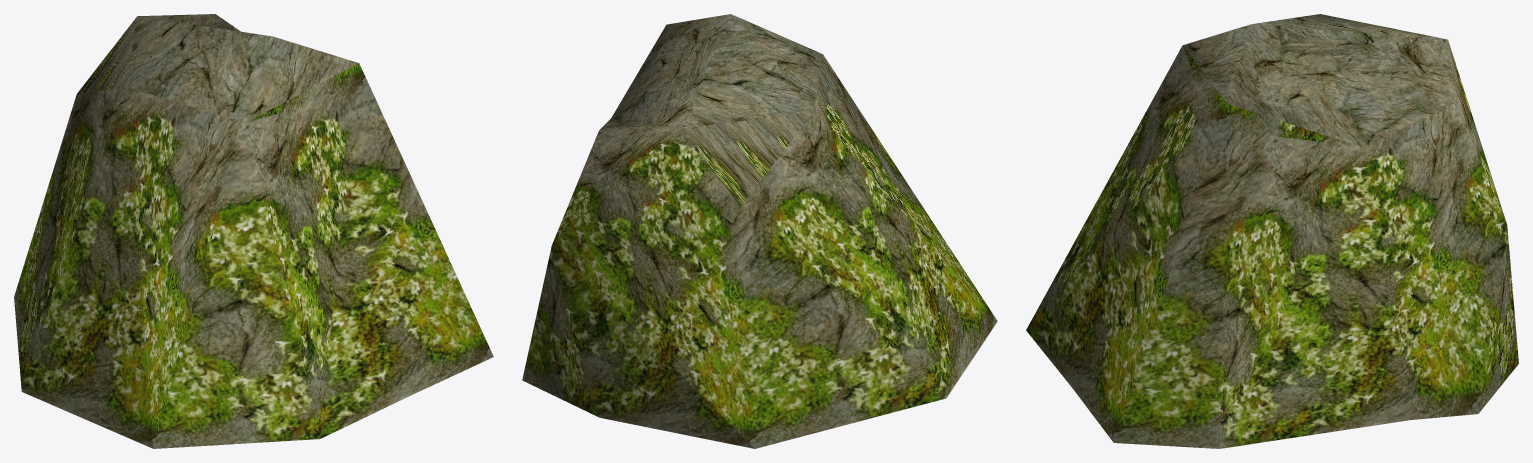
File: rock_liaaba_covered_a1_l3.fbx
The picture shows the model from 3 angles, left to right: view 1: azimuth 30°, elevation 25°; view 2: azimuth 150°, elevation 25°; view 3: azimuth 270°, elevation 25°; orthographic projection. The views are drawn at different scales.
Visible parts, largest first — view 1: mesh_node; view 2: mesh_node; view 3: mesh_node.
Part boxes in pixels (x1,y1,x2,y2): mesh_node: [14, 14, 493, 448]; mesh_node: [522, 14, 997, 448]; mesh_node: [1026, 14, 1518, 448].
Bounding box in the file's own units: 4.25 × 3.16 × 4.2.
